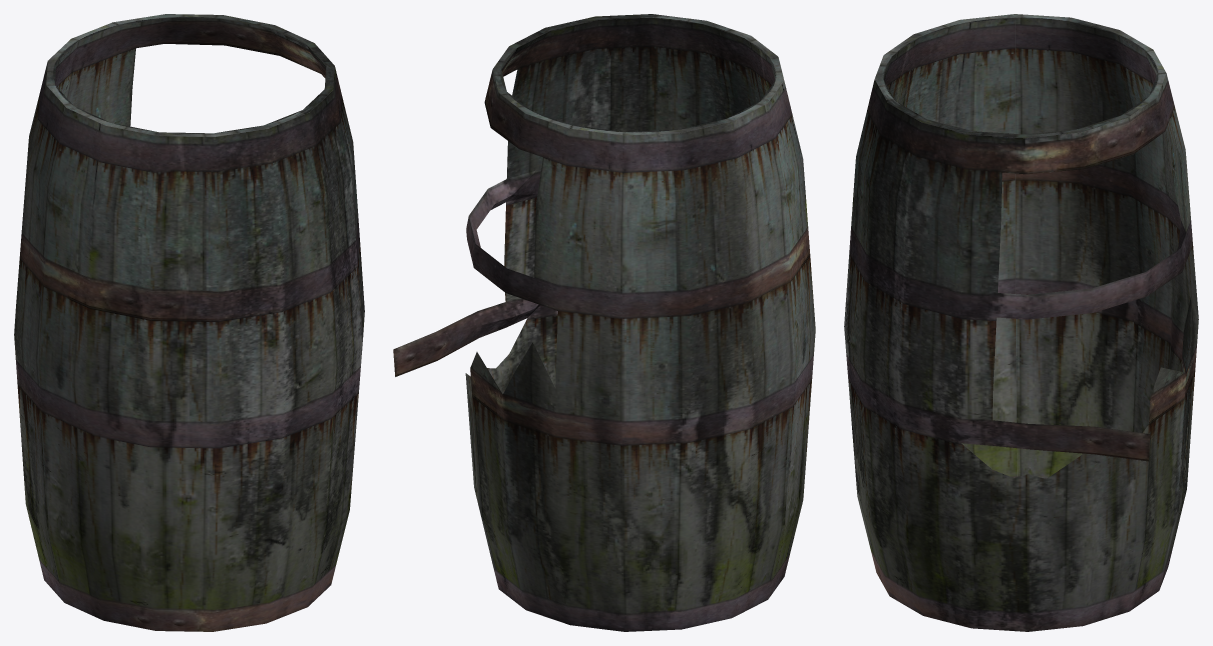
Rendered from Barrel_damaged_LOD01.fbx.
3 renders of one model, left to right at view 1: azimuth 30°, elevation 25°; view 2: azimuth 150°, elevation 25°; view 3: azimuth 270°, elevation 25°, orthographic.
Parts seen in each view (by area): view 1: Mesh Object; view 2: Mesh Object; view 3: Mesh Object.
Part boxes in pixels (box(x1,y1,x2,y2)): Mesh Object: box(14, 14, 364, 631); Mesh Object: box(393, 14, 815, 631); Mesh Object: box(844, 14, 1198, 631).
Size of the model in its own units: 0.7699 by 1.09 by 0.7084.
